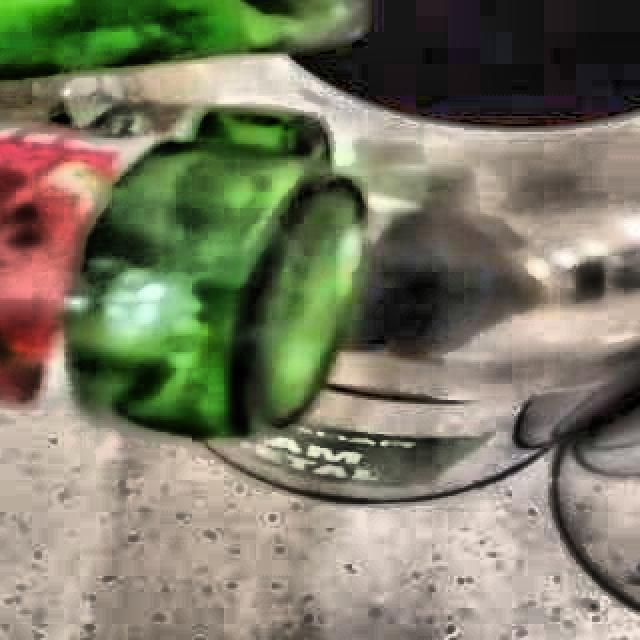glass: (0, 85, 365, 441)
